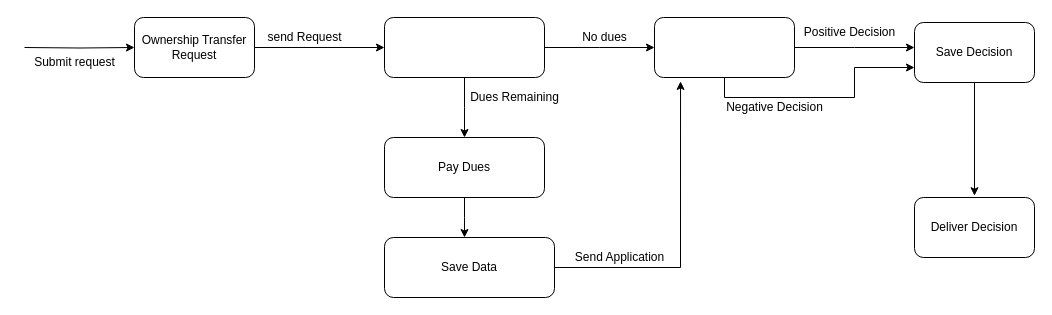
This 1052x315 diagram has some shape labels left out. The shapes that lost their labels are listed below. From the top down, each one's box as (x1, y1, x2, y2) in pixels, then its label:
(384, 16, 544, 78): Check For Dues
(654, 16, 794, 78): Review Application
